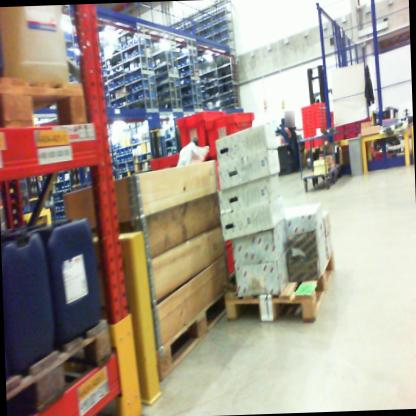forklift: (299, 56, 347, 171)
pallet: (5, 304, 121, 416), (130, 286, 241, 378), (218, 248, 341, 330), (0, 64, 97, 133)
small_load_carrier: (204, 102, 261, 164), (173, 107, 232, 164), (142, 139, 198, 181)
